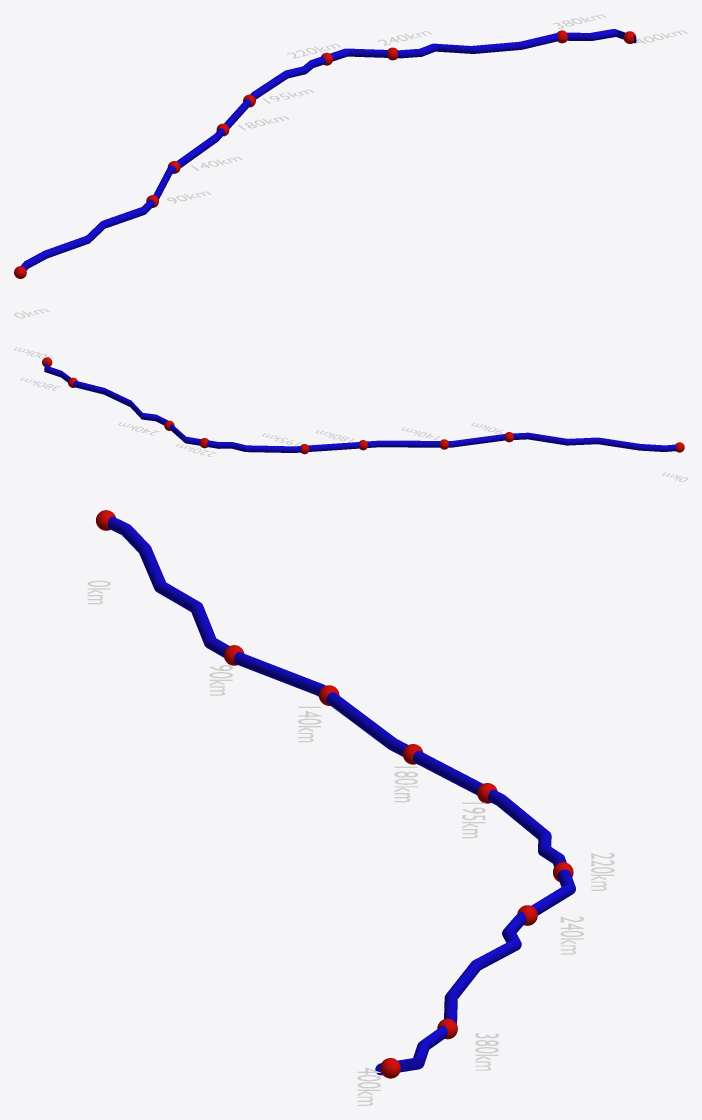
File: Caminho.fbx
The picture shows the model from 3 angles, top to bottom: view 1: azimuth 30°, elevation 25°; view 2: azimuth 150°, elevation 25°; view 3: azimuth 270°, elevation 25°; orthographic projection. The views are drawn at different scales.
Visible parts, largest first — view 1: Cilindro; view 2: Cilindro; view 3: Cilindro.
Boxes of the visible parts, box(x1,y1,x2,y2) form: Cilindro: box(14, 29, 636, 278); Cilindro: box(42, 357, 684, 454); Cilindro: box(96, 510, 575, 1078).
Size of the model in its own units: 924 by 54.67 by 349.
